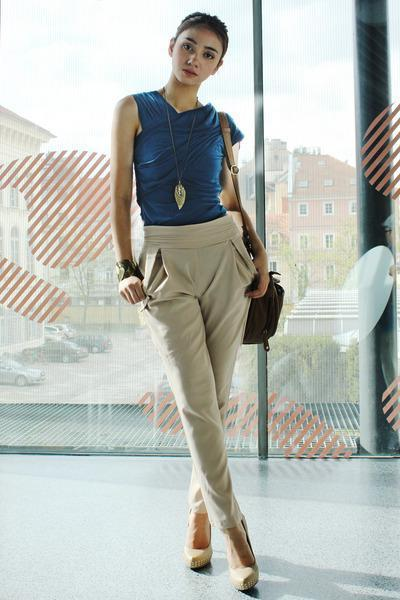short sleeve shirt: (117, 90, 251, 231)
trousers: (132, 214, 262, 527)
